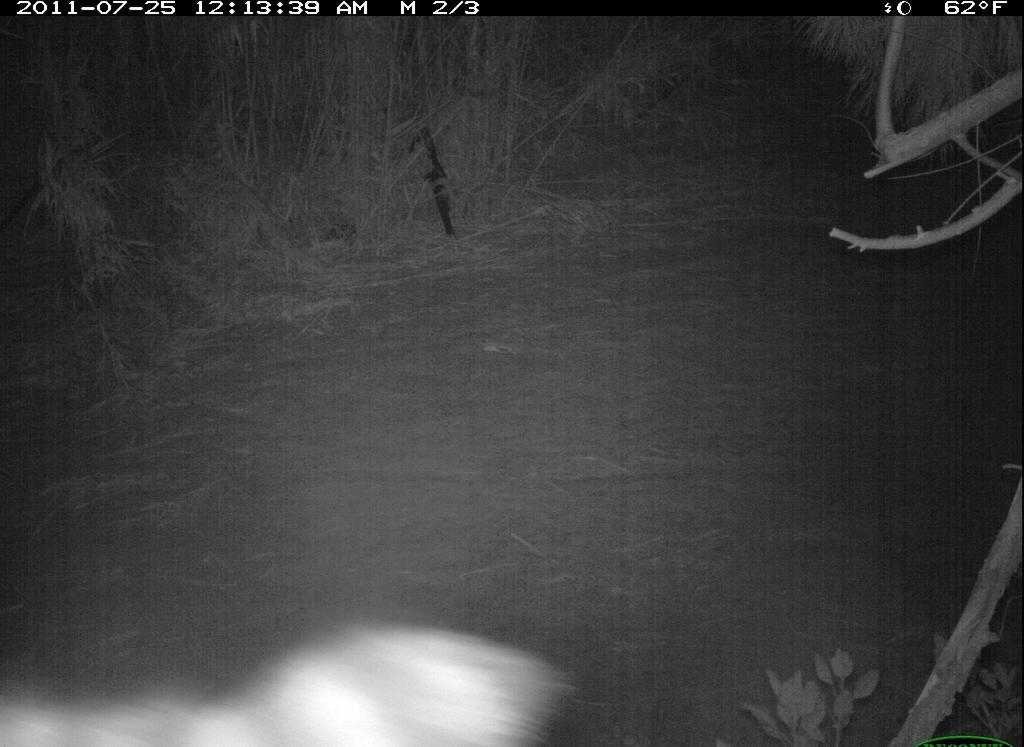raccoon: (4, 616, 625, 743)
